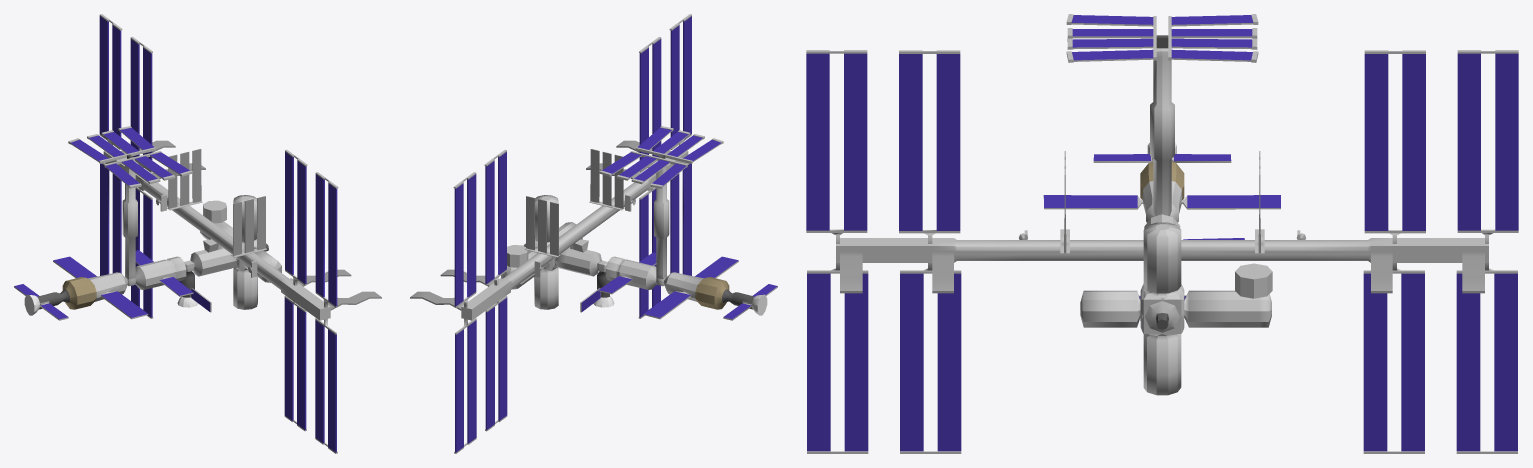
File: ISSModel.glb
The picture shows the model from 3 angles, left to right: view 1: azimuth 30°, elevation 25°; view 2: azimuth 150°, elevation 25°; view 3: azimuth 270°, elevation 25°; orthographic projection. The views are drawn at different scales.
Parts seen in each view (by area): view 1: ISS; view 2: ISS; view 3: ISS.
Boxes of the visible parts, box(x1,y1,x2,y2) form: ISS: box(14, 14, 381, 453); ISS: box(410, 14, 777, 453); ISS: box(806, 14, 1518, 453).
Bounding box in the file's own units: 0.2267 × 0.2354 × 0.3777.
